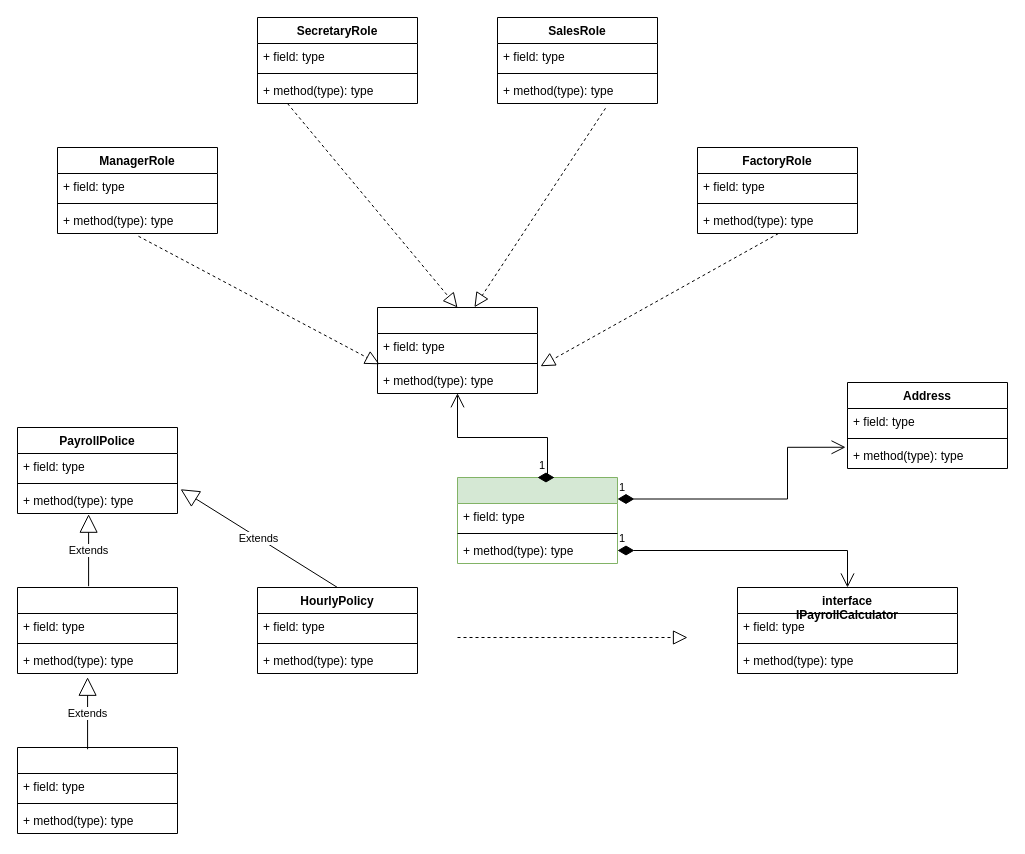
Some shapes in this 1025 by 854 pixel diagram are drawn without their labels. The shapes that lost their labels are listed below. From the top down, each one's box as (x1, y1, x2, y2) in pixels, then its label:
(376, 306, 538, 394): Integrace IRole
(456, 476, 618, 564): Employee
(16, 586, 178, 674): SalaryPolicy
(16, 746, 178, 834): CommissionPolicy
